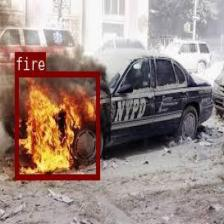fire: (14, 70, 99, 178)
